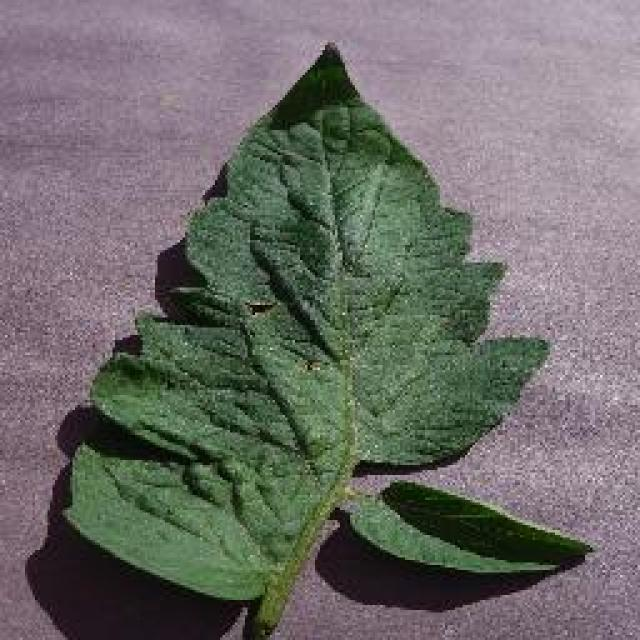Tom_Target_Spot: (226, 268, 346, 394)
